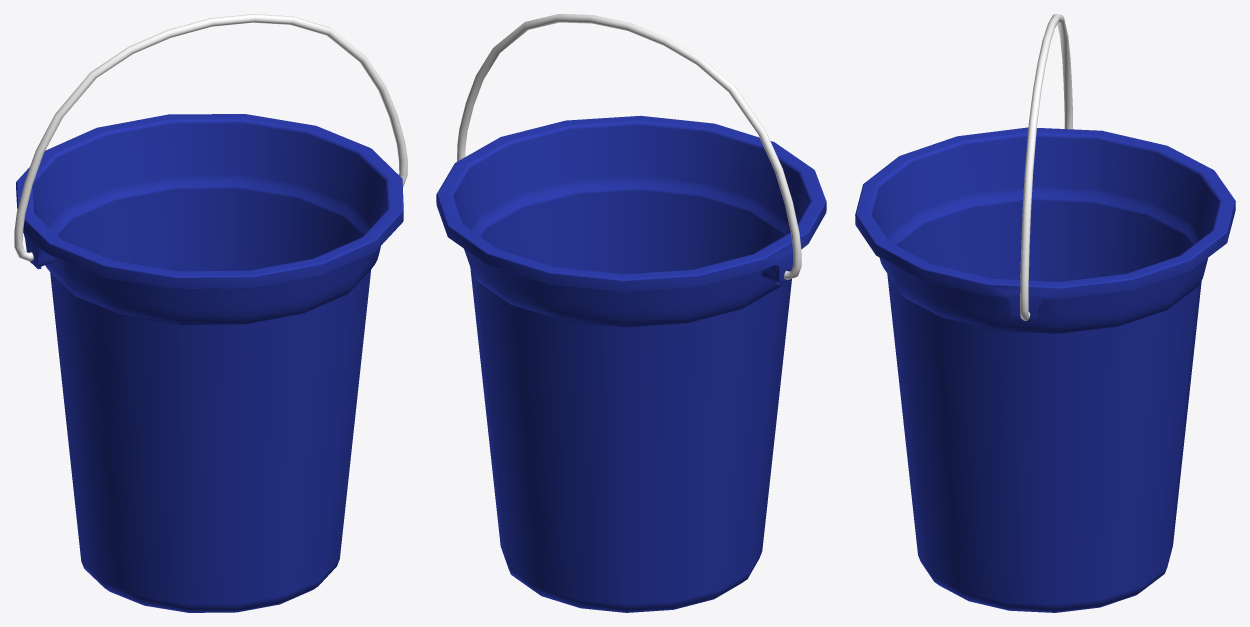
Rendered from bucket.FBX.
The picture shows the model from 3 angles, left to right: view 1: azimuth 30°, elevation 25°; view 2: azimuth 150°, elevation 25°; view 3: azimuth 270°, elevation 25°; orthographic projection. The views are drawn at different scales.
Parts seen in each view (by area): view 1: Plastic_bucket_grp_Bucket, Bucket_handle_Plastic_bucket_grp; view 2: Plastic_bucket_grp_Bucket, Bucket_handle_Plastic_bucket_grp; view 3: Plastic_bucket_grp_Bucket, Bucket_handle_Plastic_bucket_grp.
Boxes of the visible parts, x1=… form: Plastic_bucket_grp_Bucket: x1=16, y1=114, x2=403, y2=612; Bucket_handle_Plastic_bucket_grp: x1=14, y1=14, x2=407, y2=261; Plastic_bucket_grp_Bucket: x1=436, y1=115, x2=826, y2=612; Bucket_handle_Plastic_bucket_grp: x1=457, y1=14, x2=801, y2=279; Plastic_bucket_grp_Bucket: x1=855, y1=127, x2=1235, y2=612; Bucket_handle_Plastic_bucket_grp: x1=1020, y1=14, x2=1072, y2=320.
Size of the model in its own units: 24.32 by 34.35 by 22.38.
